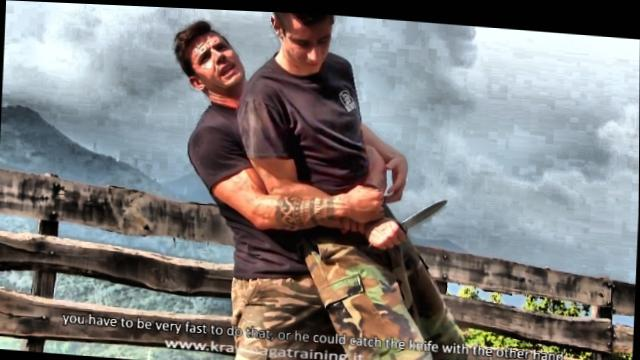knife: (366, 185, 454, 250)
